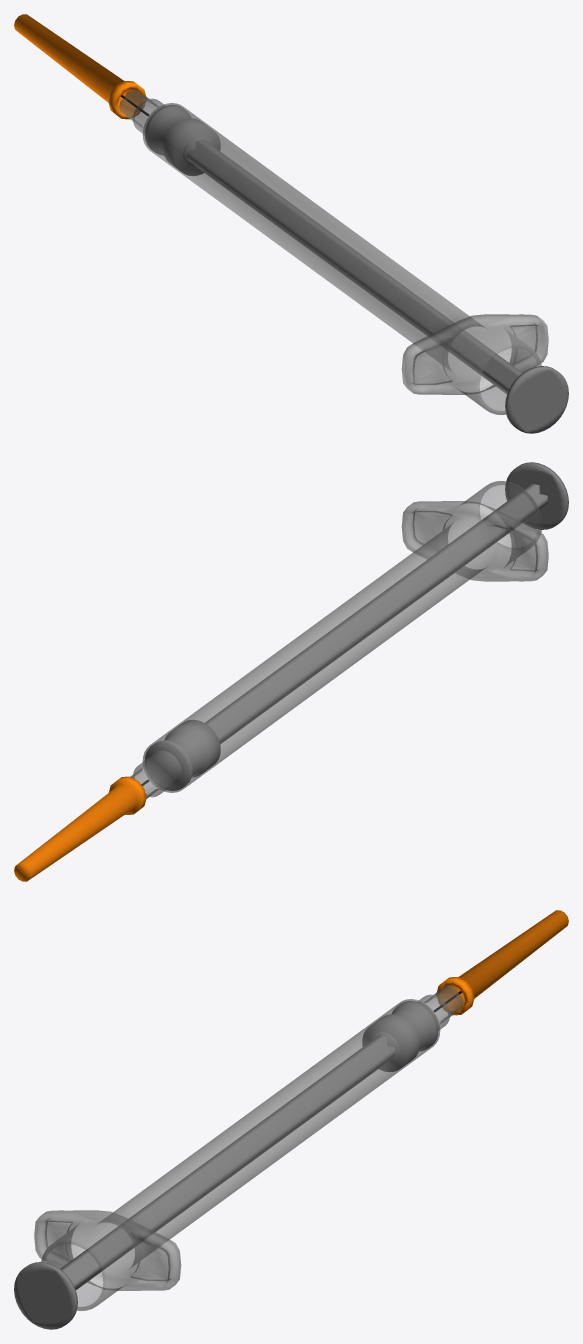
The model's file is Syringe_01.fbx.
3 views of the same model, one above another, from view 1: azimuth 30°, elevation 25°; view 2: azimuth 150°, elevation 25°; view 3: azimuth 330°, elevation 25° (orthographic).
Visible parts, largest first — view 1: CR_Syringe, BD_U-100_04_Cube_001, SM_SyringePen, BD_U-100_04_Cube_002, BD_U-100_04_Cylinder_008; view 2: CR_Syringe, BD_U-100_04_Cube_001, SM_SyringePen, BD_U-100_04_Cube_002, BD_U-100_04_Cylinder_008; view 3: CR_Syringe, BD_U-100_04_Cube_001, SM_SyringePen, BD_U-100_04_Cube_002, BD_U-100_04_Cylinder_008.
Part boxes in pixels (x1=…): CR_Syringe: x1=142, y1=103, x2=548, y2=414; BD_U-100_04_Cube_001: x1=183, y1=136, x2=568, y2=433; SM_SyringePen: x1=14, y1=14, x2=146, y2=119; BD_U-100_04_Cube_002: x1=144, y1=105, x2=220, y2=176; BD_U-100_04_Cylinder_008: x1=119, y1=89, x2=165, y2=134; CR_Syringe: x1=142, y1=481, x2=548, y2=792; BD_U-100_04_Cube_001: x1=205, y1=462, x2=568, y2=743; SM_SyringePen: x1=14, y1=776, x2=146, y2=881; BD_U-100_04_Cube_002: x1=145, y1=719, x2=220, y2=790; BD_U-100_04_Cylinder_008: x1=130, y1=751, x2=181, y2=798; CR_Syringe: x1=34, y1=999, x2=440, y2=1310; BD_U-100_04_Cube_001: x1=14, y1=1032, x2=399, y2=1329; SM_SyringePen: x1=436, y1=910, x2=568, y2=1015; BD_U-100_04_Cube_002: x1=362, y1=1001, x2=438, y2=1072; BD_U-100_04_Cylinder_008: x1=417, y1=985, x2=463, y2=1030.
Bounding box in the file's own units: 0.0252 × 0.0125 × 0.1599.
